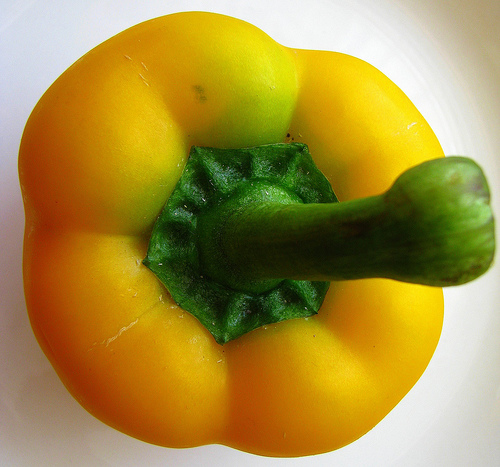capsicum: (17, 10, 494, 459)
